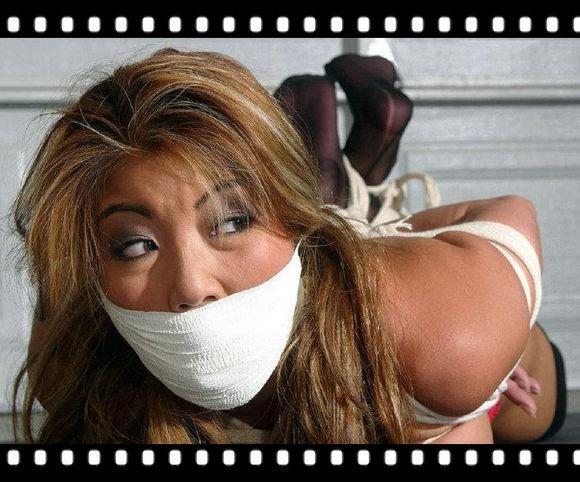WRONG: (95, 195, 308, 408)
